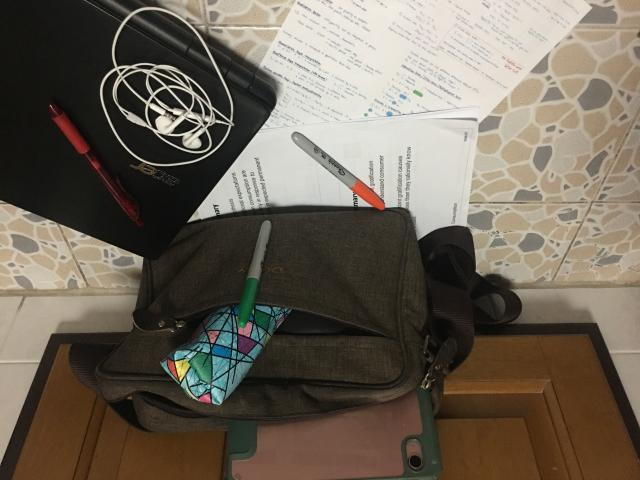Pen: (49, 104, 144, 226), (291, 131, 385, 210), (238, 221, 271, 328)
paper: (199, 0, 590, 236)
wire: (100, 8, 234, 168)
